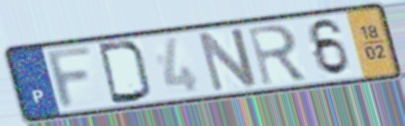4: (160, 34, 202, 96)
6: (307, 17, 352, 79)
D: (95, 40, 155, 106)
F: (43, 42, 97, 113)
N: (194, 25, 260, 95)
R: (244, 22, 311, 88)
